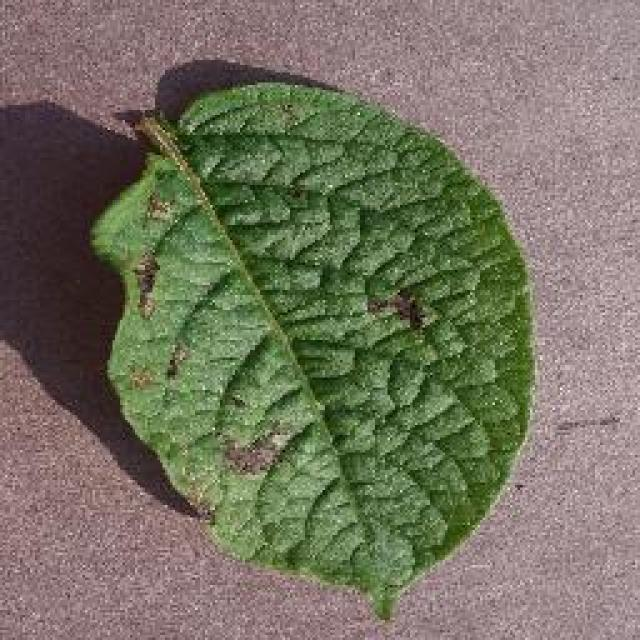Potato___Late_blight: (89, 81, 539, 623)
